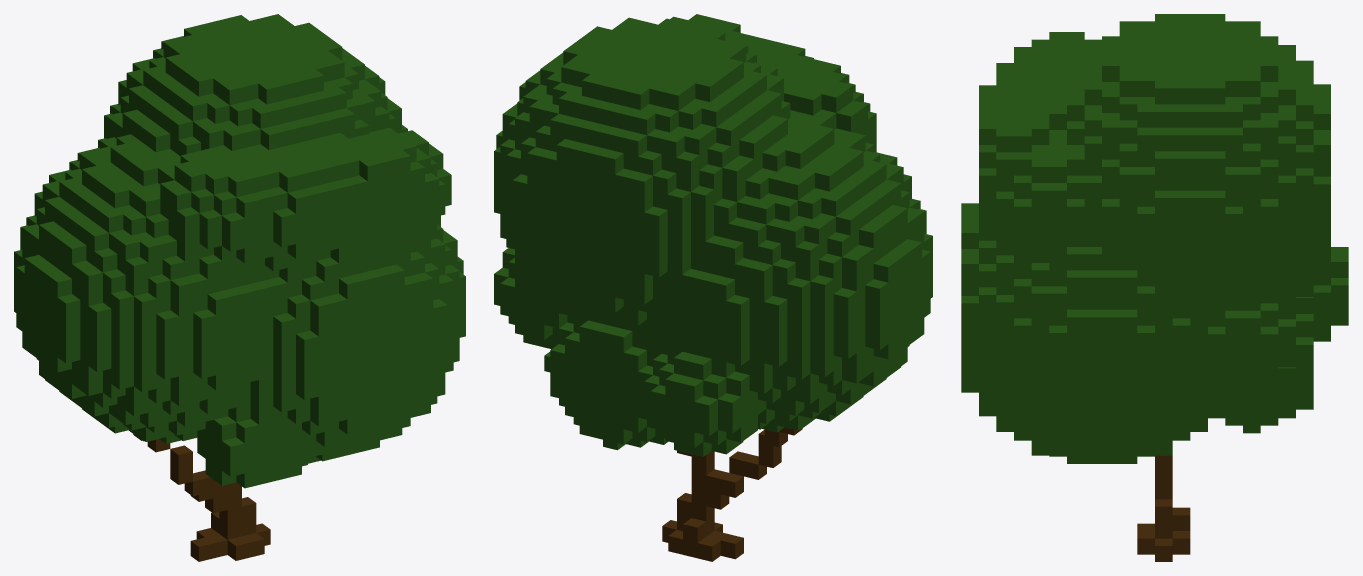
The model's file is bush1bb.obj.
The picture shows the model from 3 angles, left to right: view 1: azimuth 30°, elevation 25°; view 2: azimuth 150°, elevation 25°; view 3: azimuth 270°, elevation 25°; orthographic projection. The views are drawn at different scales.
Size of the model in its own units: 2.6 by 3.2 by 2.2.
Materials: 1 (1 with a texture image).
